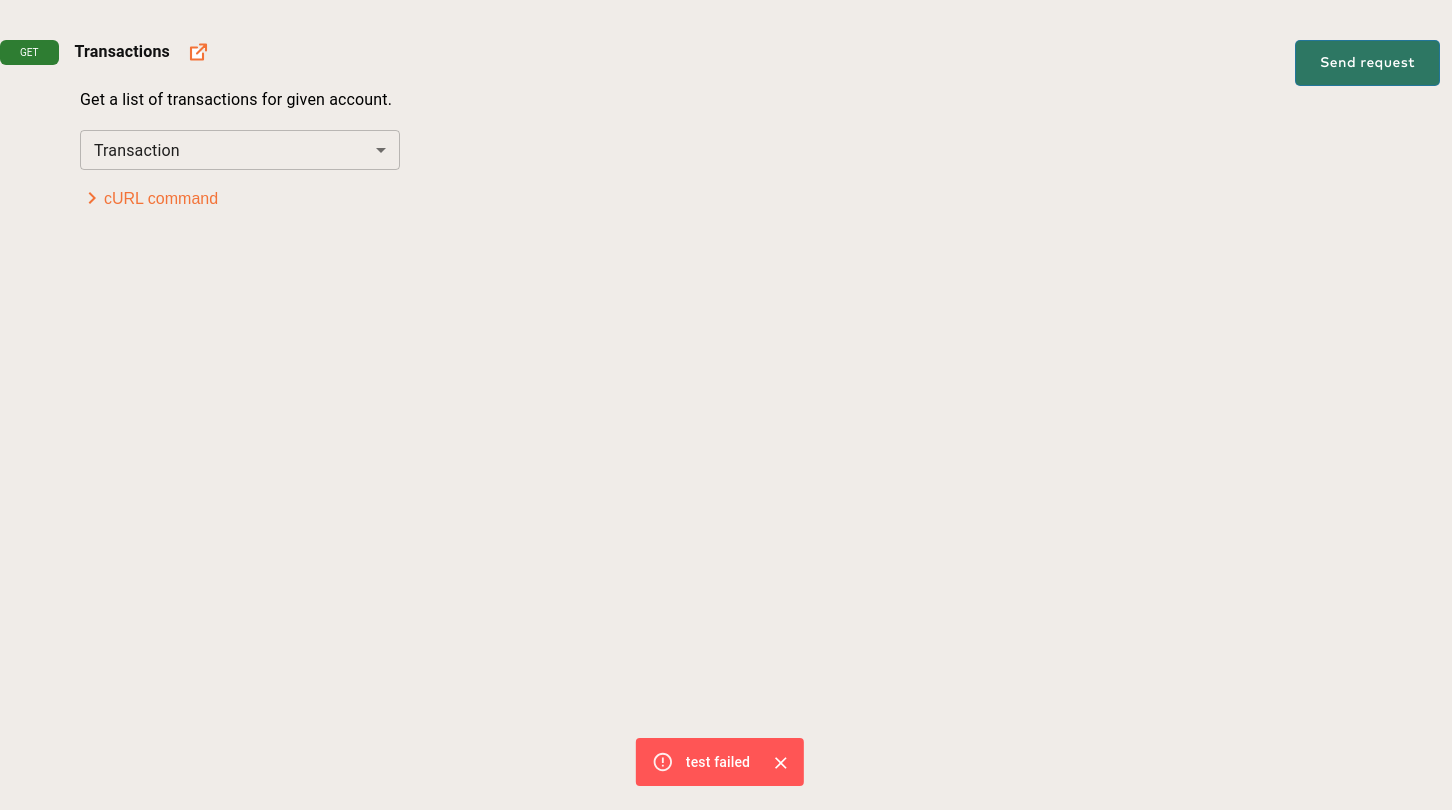
Testing product compoment › Should render product with account drop down
Expected: the element with test id "account-select" is shown, [80,130,400,170]
Click the dropdown "Transaction".
click(137, 150)  # box [94,140,180,160]
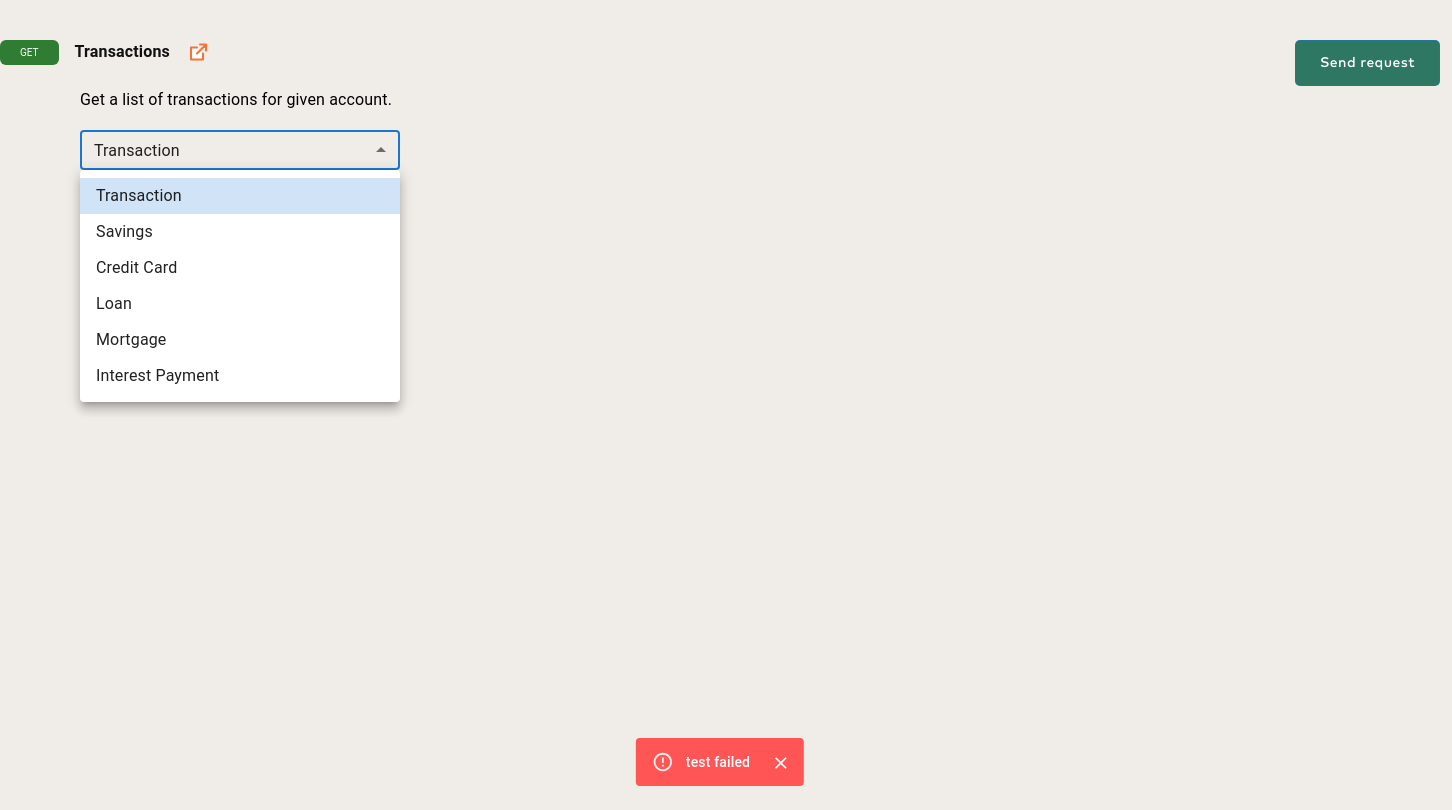
Click the option "Savings".
click(124, 232)  # box [96,222,153,241]
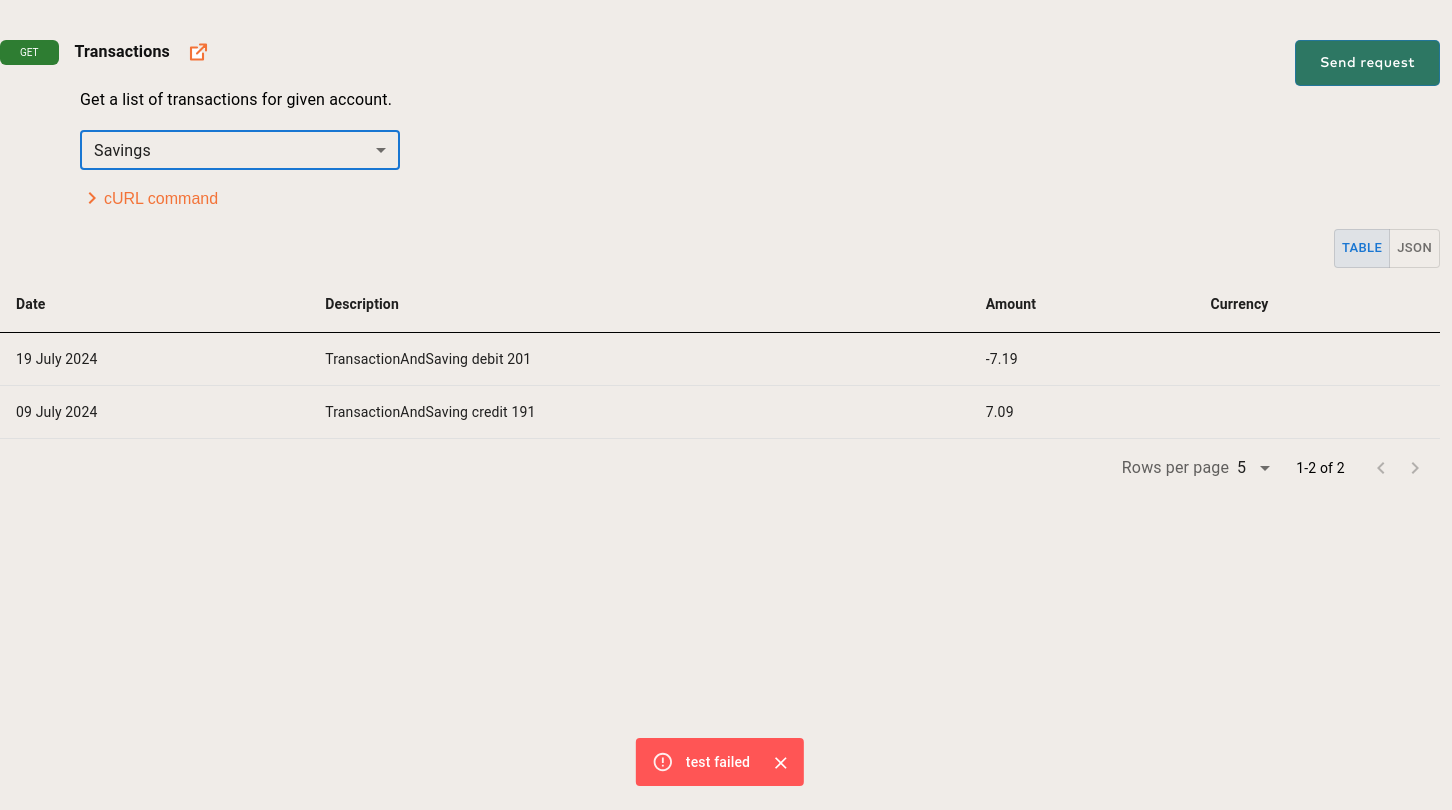
Expected: the dropdown "Savings" is shown
Click the dropdown "Savings".
click(122, 150)  # box [94,140,151,160]
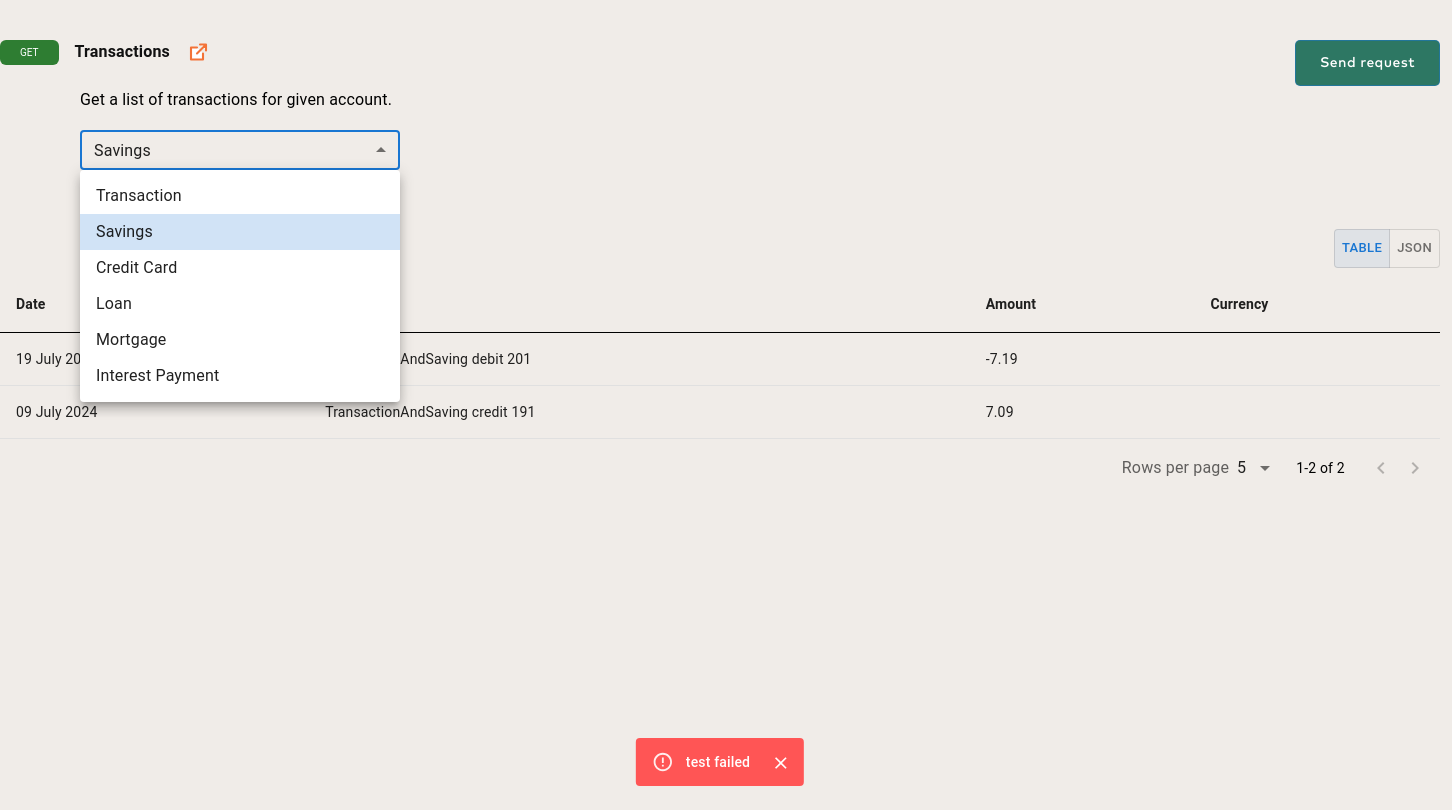
Click the option "Credit Card".
click(137, 268)  # box [96,258,177,277]
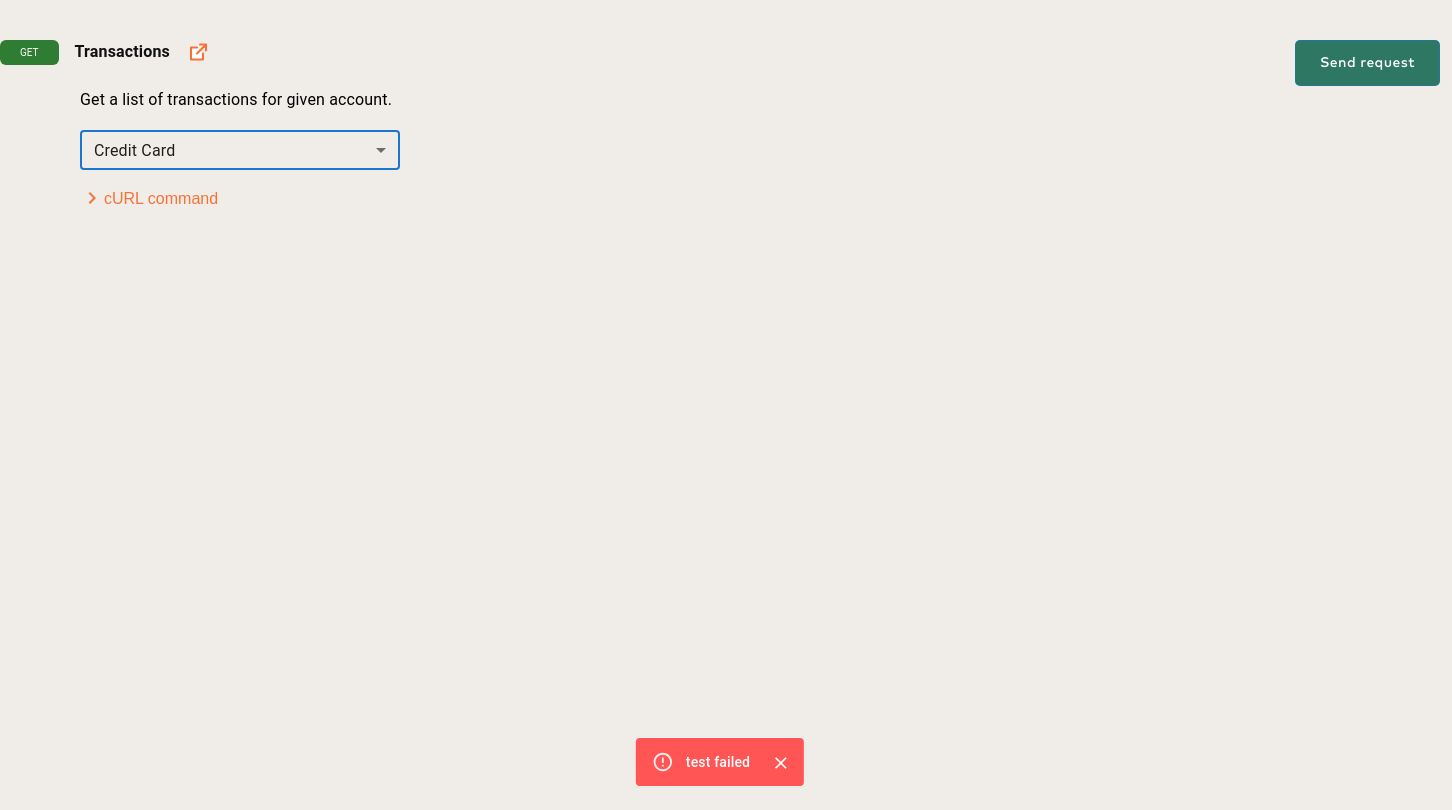
Expected: the element with test id "account-select" is shown, [80,130,400,170]
Expected: the dropdown "Credit Card" is shown, [94,140,175,160]
